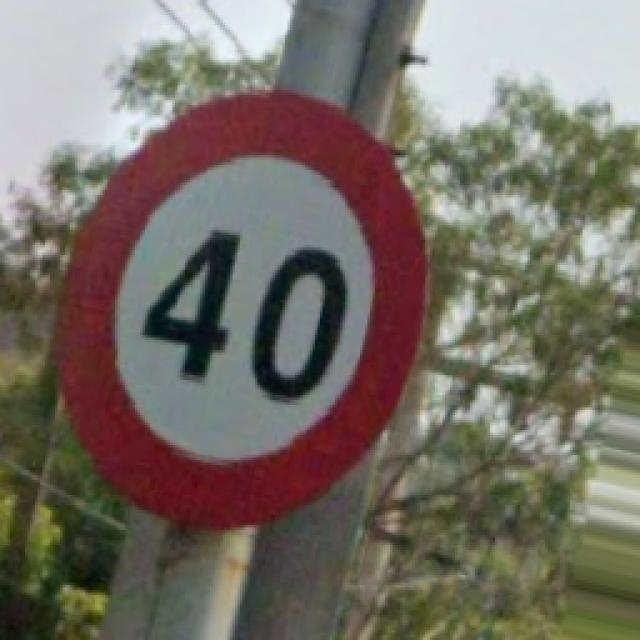Speed Limit -40-: (58, 90, 422, 528)
